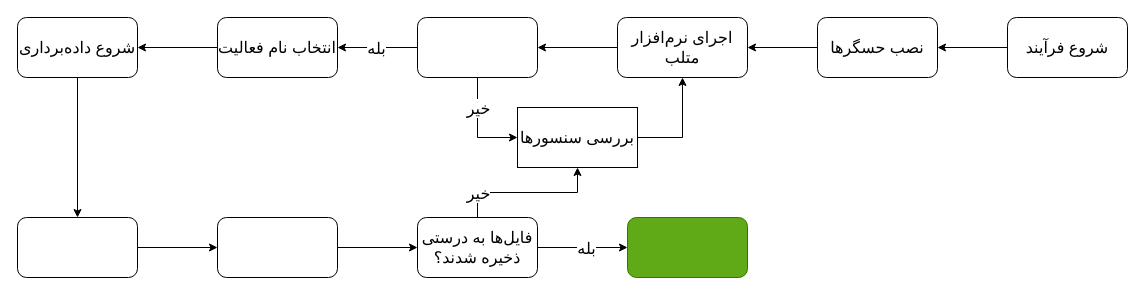
Some shapes in this 1145 by 295 pixel diagram are drawn without their labels. Here are the shapes that lost their labels. From the top down, the centre of each, then its label:
the point at 477,47: تمامی حسگرها متصل شدند؟
the point at 77,247: انجام فعالیت
the point at 277,247: اتمام داده‌برداری
the point at 687,247: اتمام فرآیند
